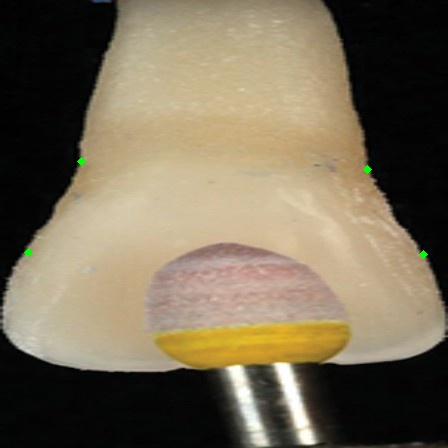coin_1: (81, 161, 101, 181)
coin_2: (28, 252, 48, 272)
coin_3: (367, 169, 387, 189)
coin_4: (423, 254, 443, 274)
